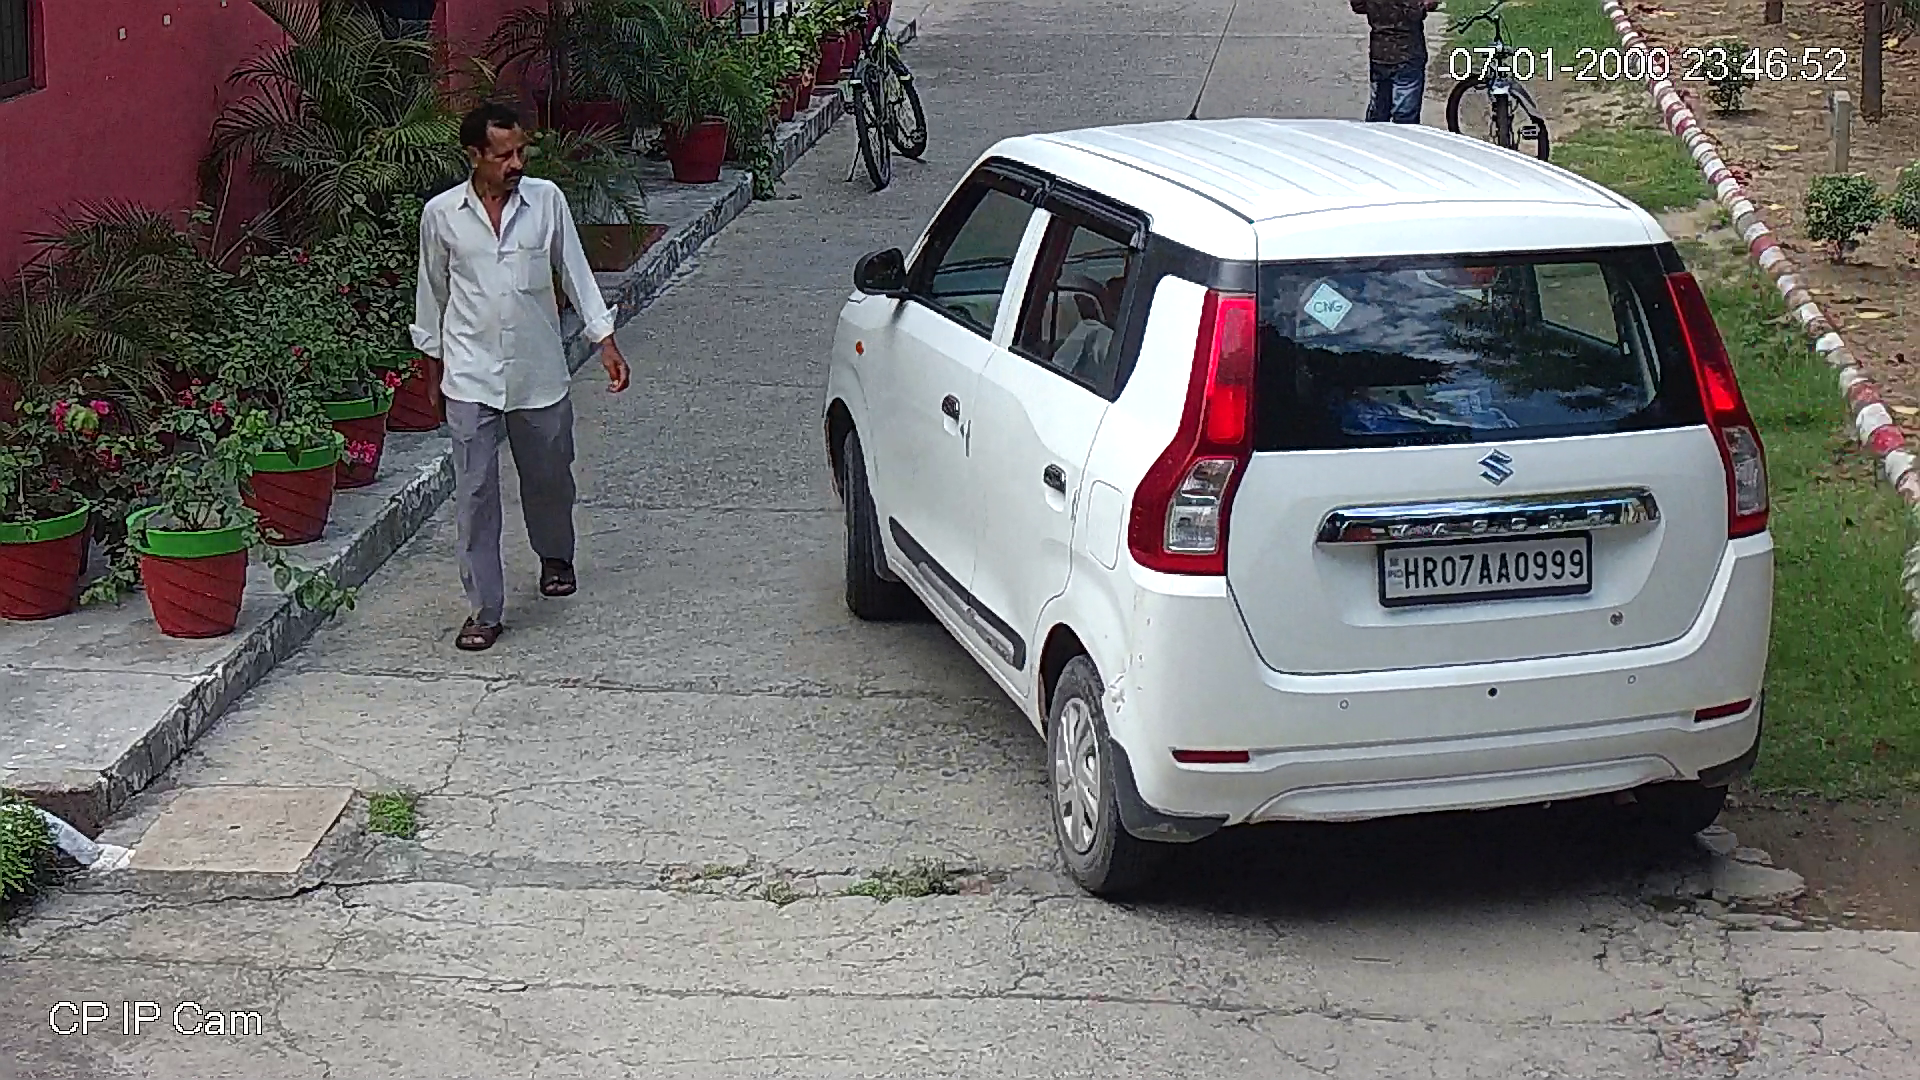plate: (1371, 522, 1601, 614)
